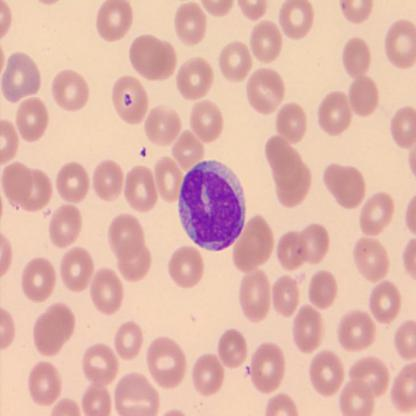Monocyte: (178, 156, 248, 253)
